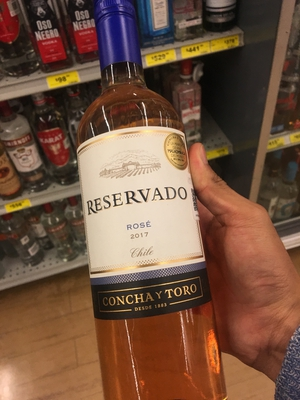reservado rose: (60, 12, 227, 394)
